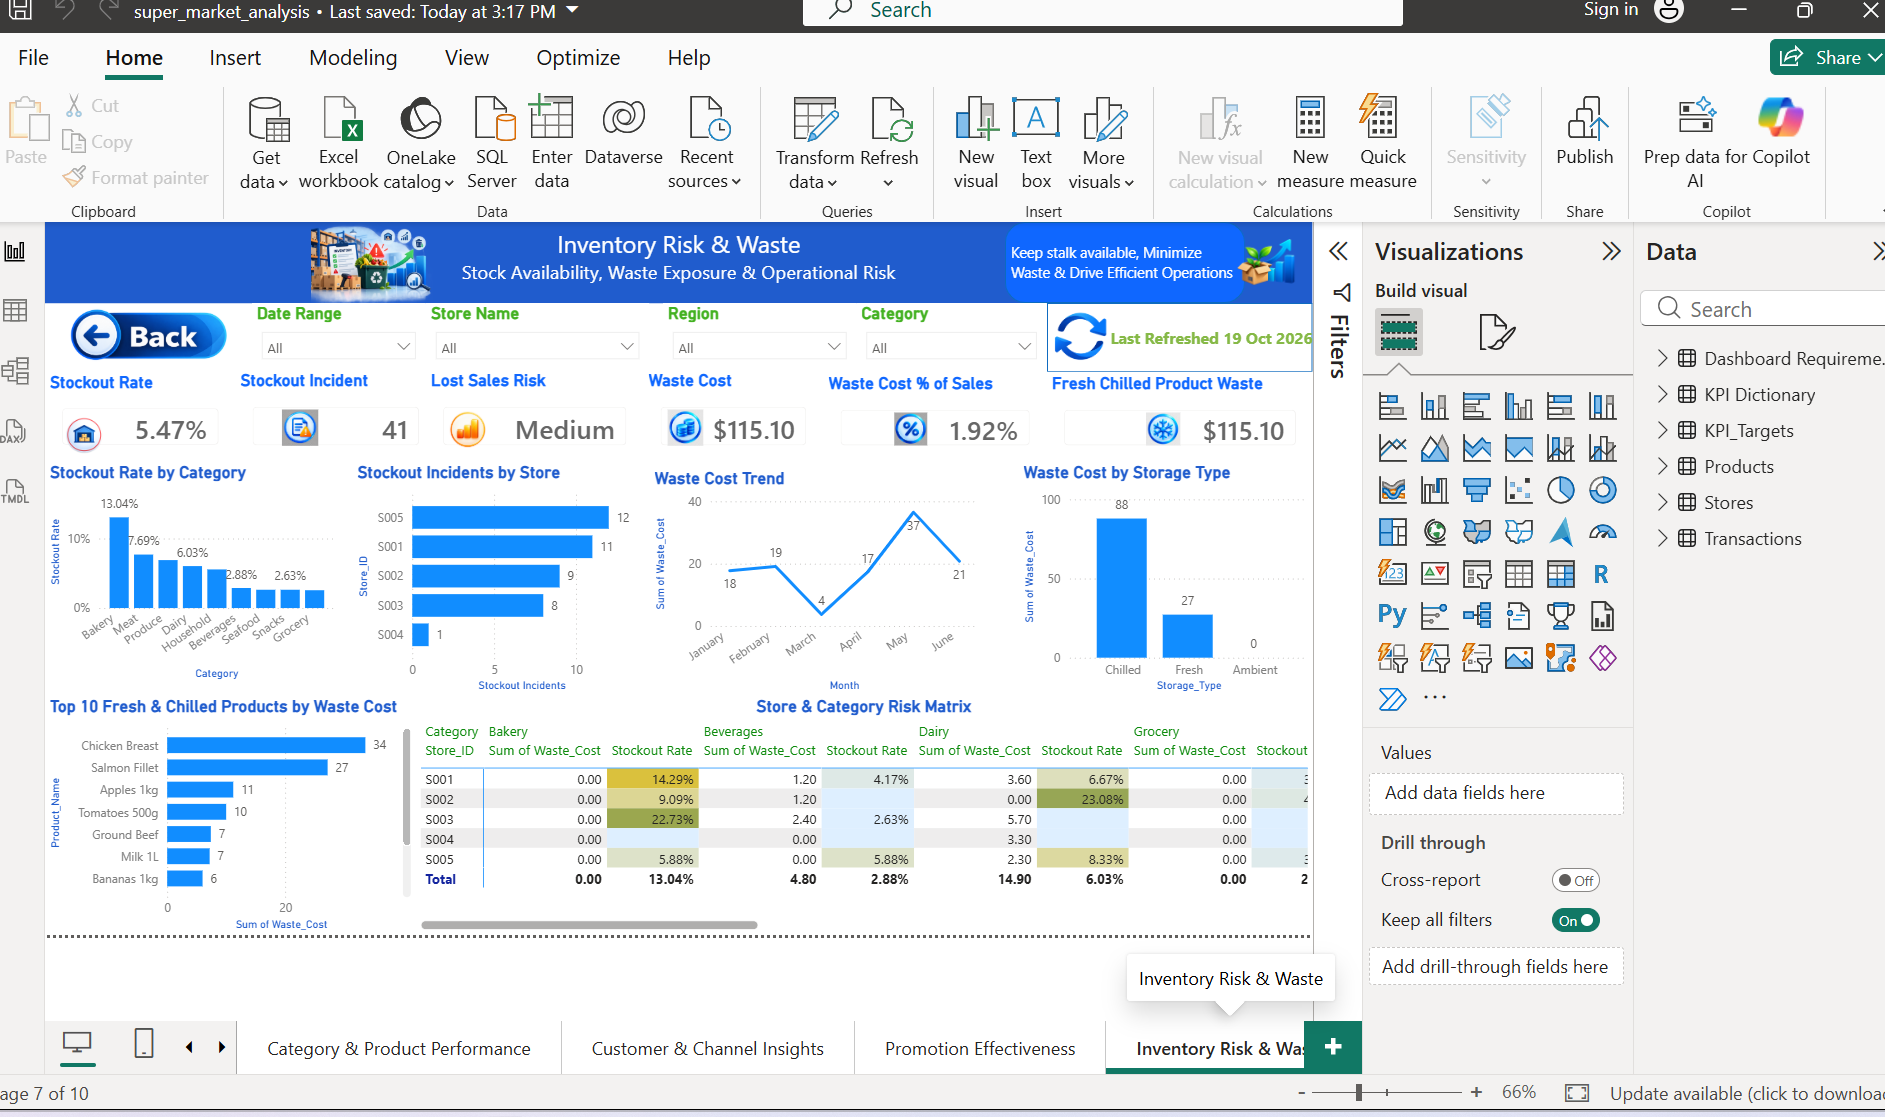

The page's visual inventory and layout, read from the dashboard file:
{"tool":"powerbi","page":{"name":"Inventory Risk & Waste","canvas":[1280,720],"ordinal":6},"visuals":[{"type":"textbox","box":[0,0,1279.5,81.8],"z":0},{"type":"cardVisual","title":"Stockout Rate","fields":{"Data":["Dashboard Requirements.Stockout Rate"]},"box":[0,151.4,192.3,90.9],"z":1000},{"type":"cardVisual","title":"Stockout Incident","fields":{"Data":["Dashboard Requirements.Stockout Incidents"]},"box":[192.3,149.9,202.9,92.4],"z":2000},{"type":"cardVisual","title":"Waste Cost","fields":{"Data":["Dashboard Requirements.Waste Cost"]},"box":[604.2,149.9,181.7,92.4],"z":3000},{"type":"cardVisual","title":"Waste Cost % of Sales","fields":{"Data":["Dashboard Requirements.Waste Cost % of Sales"]},"box":[785.9,152.9,225.6,89.3],"z":4000},{"type":"cardVisual","title":"Fresh Chilled Product Waste","fields":{"Data":["Dashboard Requirements.Fresh Chilled Product Waste"]},"box":[1011.5,152.9,268,89.3],"z":5000},{"type":"cardVisual","title":"Lost Sales Risk","fields":{"Data":["Dashboard Requirements.Lost Sales Risk"]},"box":[384.6,149.9,219.6,92.4],"z":6000},{"type":"clusteredColumnChart","fields":{"Category":["Products.Category"],"Y":["Dashboard Requirements.Stockout Rate"]},"box":[0,242.3,296.8,224.1],"z":7000},{"type":"clusteredBarChart","title":"Stockout Incidents by Store","fields":{"Category":["Stores.Store_ID"],"Y":["Dashboard Requirements.Stockout Incidents"]},"box":[310.4,242.3,293.8,236.2],"z":8000},{"type":"lineChart","title":"Waste Cost Trend","fields":{"Category":["Transactions.Date.Variation.Date Hierarchy.Month"],"Y":["Sum(Transactions.Waste_Cost)"]},"box":[610.2,248.3,336.2,230.2],"z":9000},{"type":"clusteredColumnChart","title":"Waste Cost by Storage Type","fields":{"Category":["Products.Storage_Type"],"Y":["Sum(Transactions.Waste_Cost)"]},"box":[982.7,242.3,296.8,236.2],"z":10000},{"type":"clusteredBarChart","title":"Top 10 Fresh & Chilled Products by Waste Cost","fields":{"Category":["Products.Product_Name"],"Y":["Sum(Transactions.Waste_Cost)"]},"box":[0,478.5,374,240.8],"z":11000},{"type":"pivotTable","title":"Store & Category Risk Matrix","fields":{"Columns":["Products.Category"],"Rows":["Transactions.Store_ID"],"Values":["Sum(Transactions.Waste_Cost)","Dashboard Requirements.Stockout Rate"]},"box":[374,478.5,905.5,240.8],"z":12000},{"type":"shape","box":[969.1,0,242.3,81.8],"z":13000},{"type":"image","box":[1185.6,0,93.9,81.8],"z":14000},{"type":"image","box":[233.2,0,193.8,81.8],"z":15000},{"type":"slicer","title":"Date Range","fields":{"Values":["Transactions.Date.Variation.Date Hierarchy.Year","Transactions.Date.Variation.Date Hierarchy.Quarter","Transactions.Date.Variation.Date Hierarchy.Month","Transactions.Date.Variation.Date Hierarchy.Day"]},"box":[209,81.8,175.6,66.6],"z":16000},{"type":"slicer","title":"Store Name","fields":{"Values":["Stores.Store_Name"]},"box":[384.6,81.8,225.6,69.7],"z":17000},{"type":"slicer","title":"Region","fields":{"Values":["Stores.Region"]},"box":[623.9,81.8,195.3,69.7],"z":18000},{"type":"slicer","title":"Category","fields":{"Values":["Products.Category"]},"box":[819.2,81.8,192.3,69.7],"z":19000},{"type":"image","box":[0,81.8,209,66.6],"z":20000},{"type":"shape","box":[1011.5,81.8,268,69.7],"z":21000},{"type":"image","box":[1011.5,81.8,66.6,66.6],"z":22000},{"type":"image","box":[0,189.3,78.7,53],"z":23000},{"type":"image","box":[233.2,189.3,48.5,36.3],"z":24000},{"type":"image","box":[395.2,189.3,63.6,40.9],"z":25000},{"type":"image","box":[623.9,189.3,45.4,36.3],"z":26000},{"type":"image","box":[848,192.3,51.5,33.3],"z":27000},{"type":"image","box":[1111.4,192.3,34.8,33.3],"z":28000}]}

Visuals, with their boxes on the page's 1280x720 design canvas (x1, y1, x2, y2). These are canvas units, not pixel positions in the 1885x1117 screenshot, which may show the page scaled, cropped or inside an application window:
textbox: 0,0,1280,82
"Stockout Rate" cardVisual: 0,151,192,242
"Stockout Incident" cardVisual: 192,150,395,242
"Waste Cost" cardVisual: 604,150,786,242
"Waste Cost % of Sales" cardVisual: 786,153,1012,242
"Fresh Chilled Product Waste" cardVisual: 1012,153,1280,242
"Lost Sales Risk" cardVisual: 385,150,604,242
clusteredColumnChart - Products.Category x Dashboard Requirements.Stockout Rate: 0,242,297,466
"Stockout Incidents by Store" clusteredBarChart: 310,242,604,478
"Waste Cost Trend" lineChart: 610,248,946,478
"Waste Cost by Storage Type" clusteredColumnChart: 983,242,1280,478
"Top 10 Fresh & Chilled Products by Waste Cost" clusteredBarChart: 0,478,374,719
"Store & Category Risk Matrix" pivotTable: 374,478,1280,719
shape: 969,0,1211,82
image: 1186,0,1280,82
image: 233,0,427,82
"Date Range" slicer: 209,82,385,148
"Store Name" slicer: 385,82,610,152
"Region" slicer: 624,82,819,152
"Category" slicer: 819,82,1012,152
image: 0,82,209,148
shape: 1012,82,1280,152
image: 1012,82,1078,148
image: 0,189,79,242
image: 233,189,282,226
image: 395,189,459,230
image: 624,189,669,226
image: 848,192,900,226
image: 1111,192,1146,226
